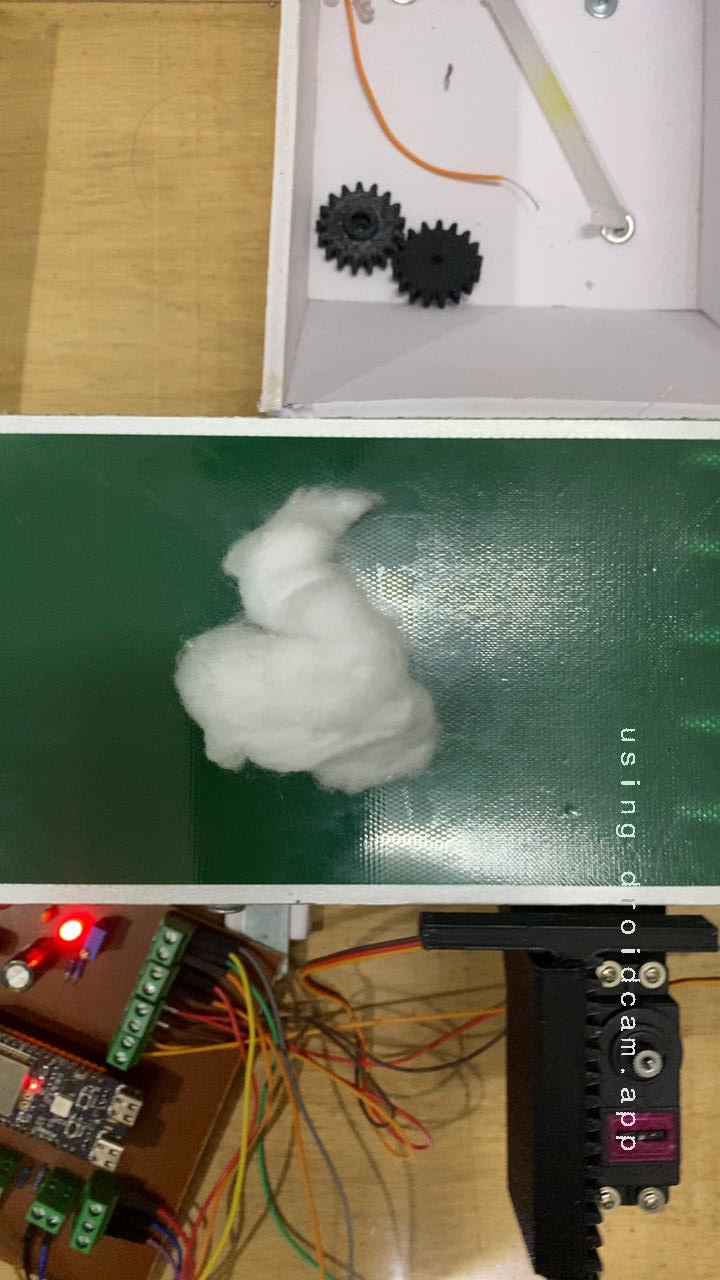cotton: (143, 463, 465, 812)
